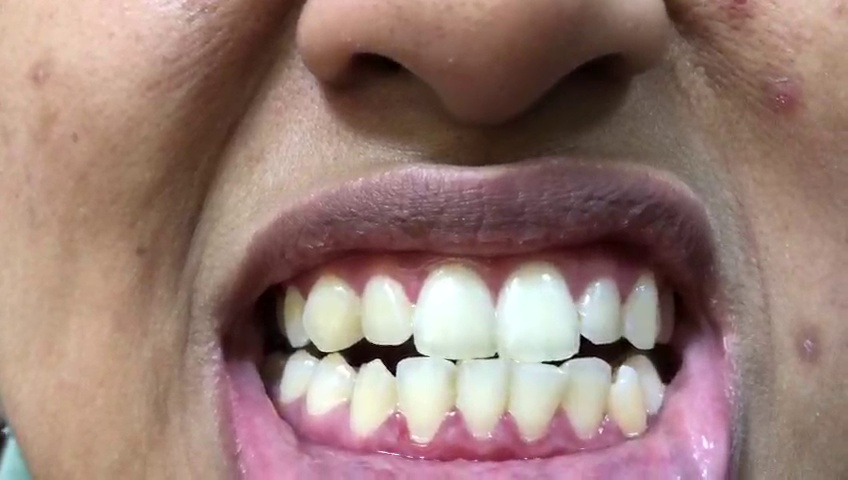1st Premolar: (307, 354, 356, 418), (629, 353, 669, 416), (280, 272, 304, 350)
2nd Premolar: (273, 350, 316, 405)
Canine: (305, 274, 361, 351), (350, 357, 397, 439), (610, 364, 647, 439), (622, 270, 658, 347)
Central Incisor: (496, 260, 580, 362), (413, 265, 498, 360), (510, 360, 564, 444), (458, 359, 513, 439)
Lateral Incisor: (397, 354, 458, 446), (562, 355, 611, 443), (362, 272, 415, 344), (578, 269, 624, 345)
